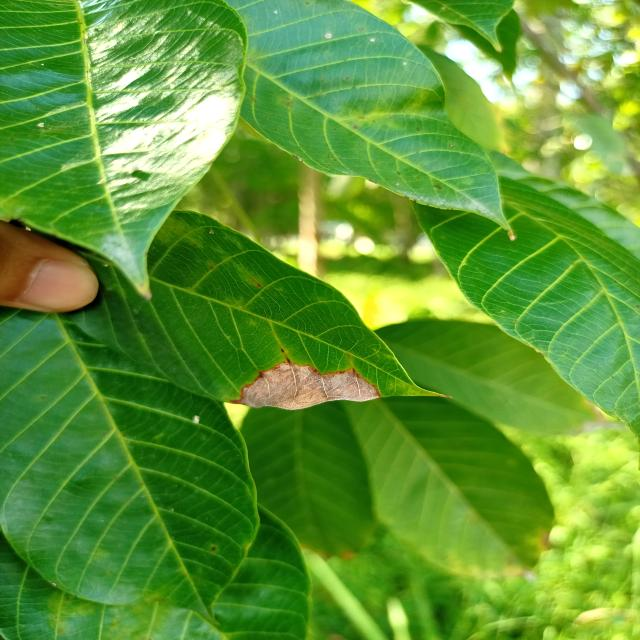Leaf-Blight: (227, 361, 380, 410)
